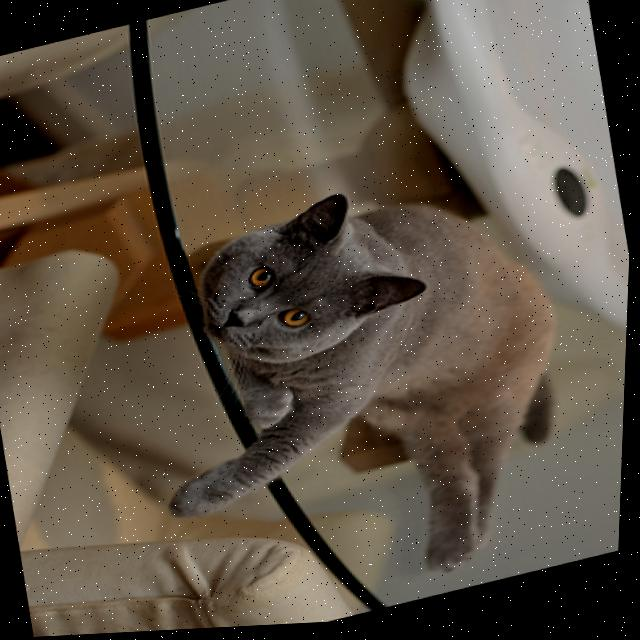British Shorthair: (107, 145, 615, 635)
